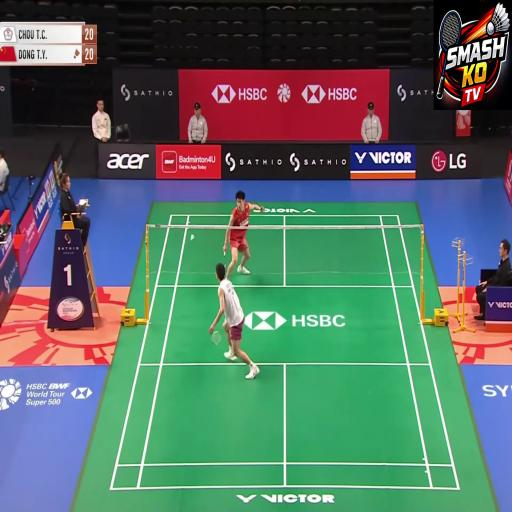player: (205, 280, 258, 400), (214, 184, 259, 282)
